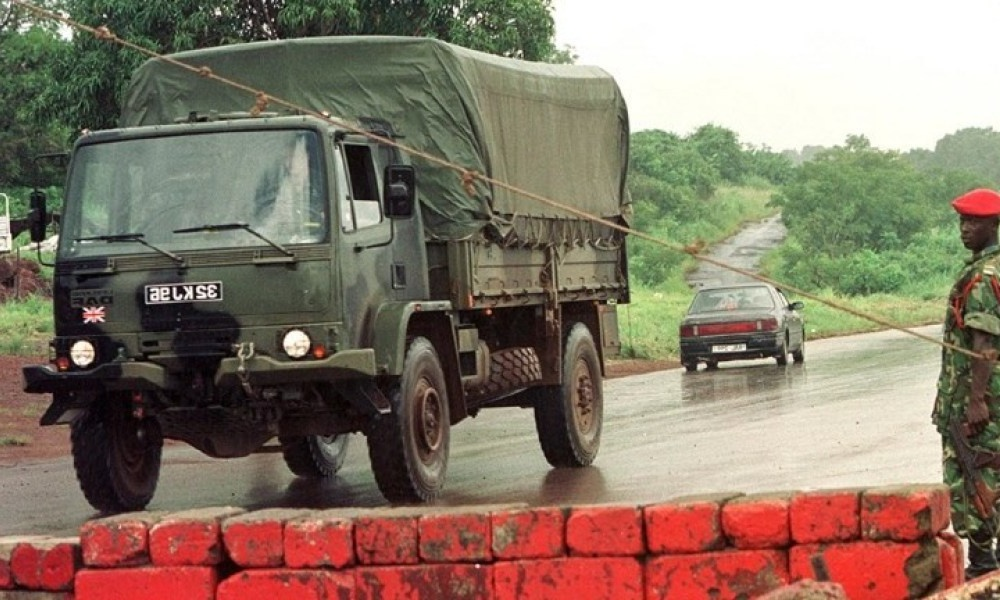license_plate: (143, 276, 230, 308)
